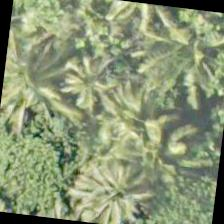Kelapa_Sawit: (40, 29, 140, 129), (107, 88, 207, 188), (135, 3, 223, 103), (61, 141, 162, 223), (0, 27, 76, 125)
